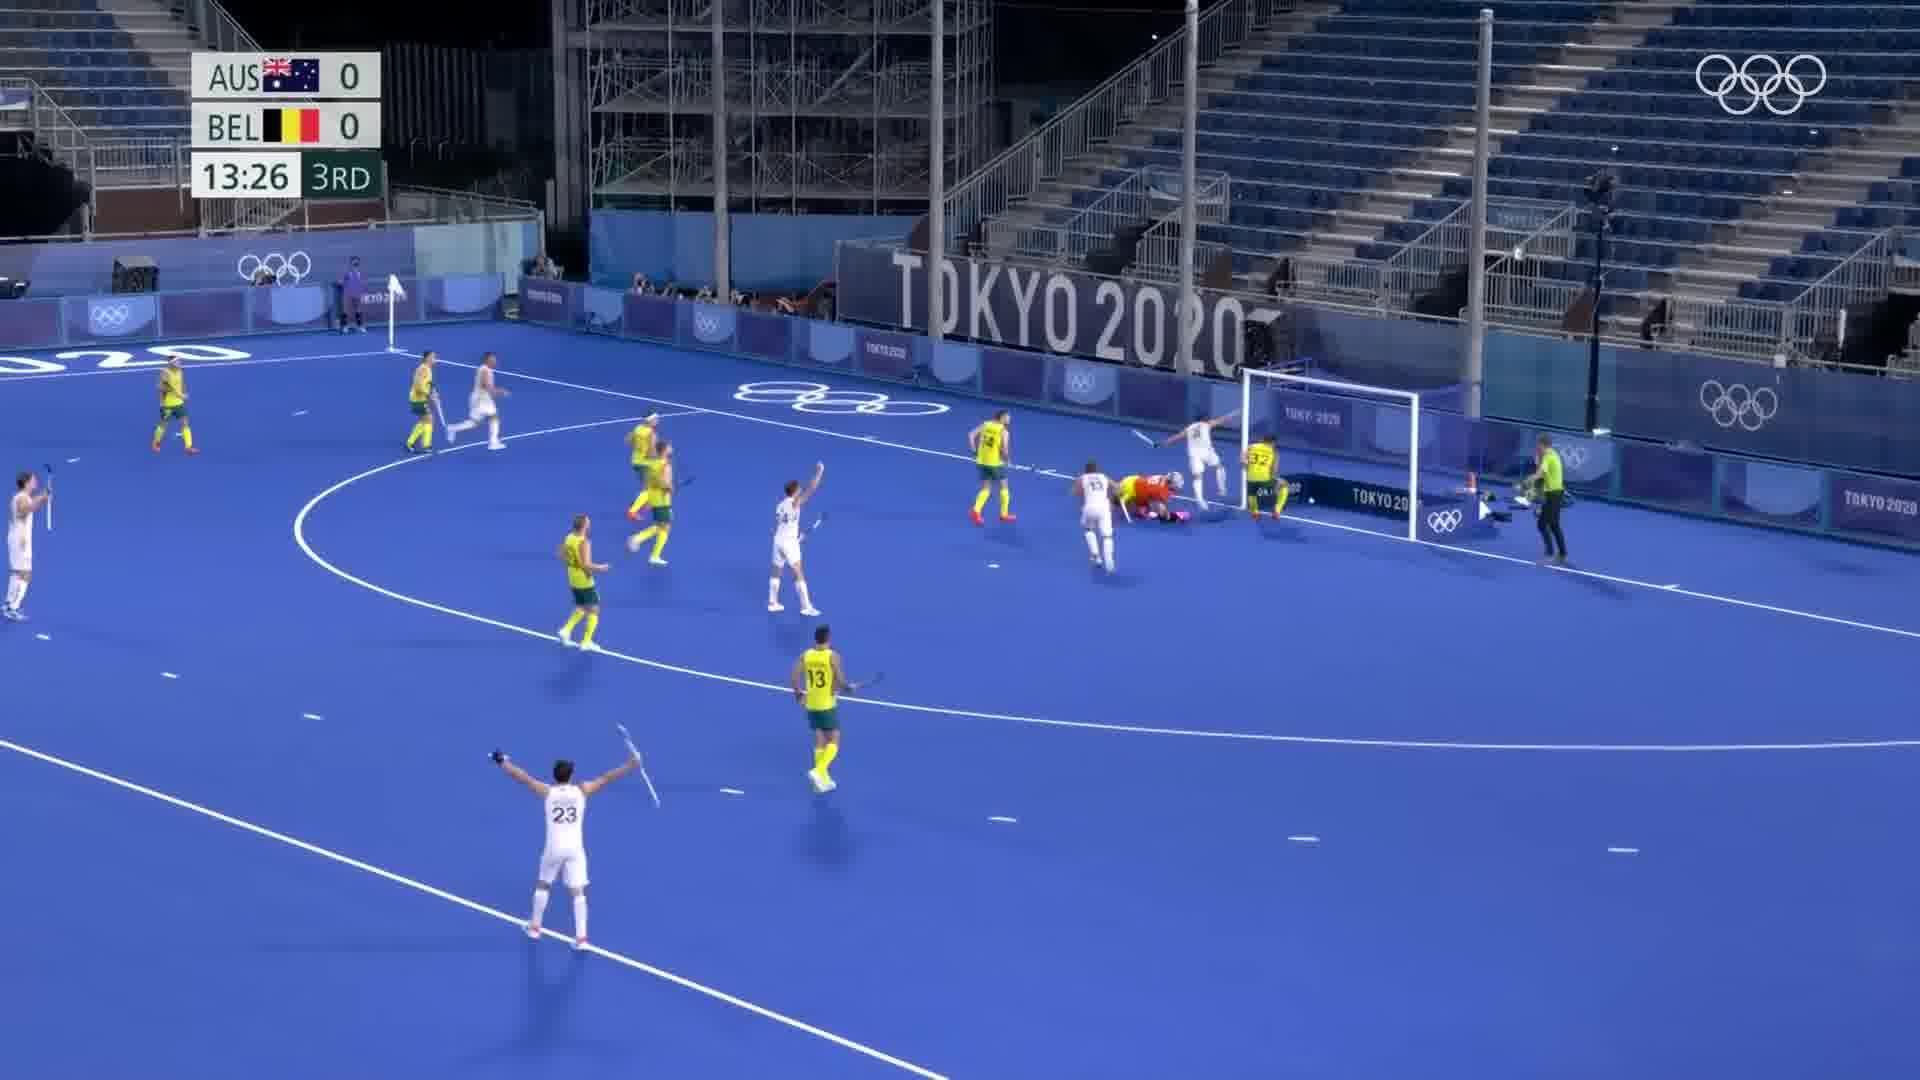ball: (1303, 495, 1320, 507)
